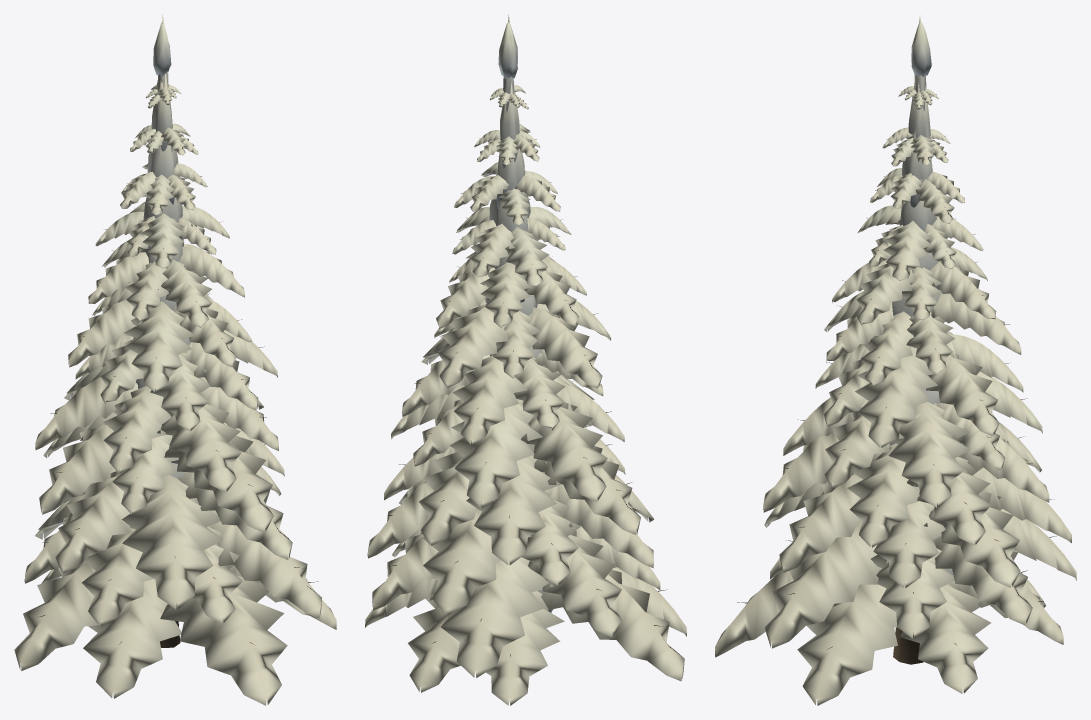
3 views of the same model, side by side, from view 1: azimuth 30°, elevation 25°; view 2: azimuth 150°, elevation 25°; view 3: azimuth 270°, elevation 25° (orthographic). The views are drawn at different scales.
Visible parts, largest first — view 1: crown; view 2: crown; view 3: crown, trunk.
Part boxes in pixels (x1,y1,x2,y2): crown: (14,14,336,705); crown: (365,14,686,705); crown: (715,15,1076,705); trunk: (737,91,1057,664).
Bounding box in the file's own units: 7.58 × 16 × 8.14.
